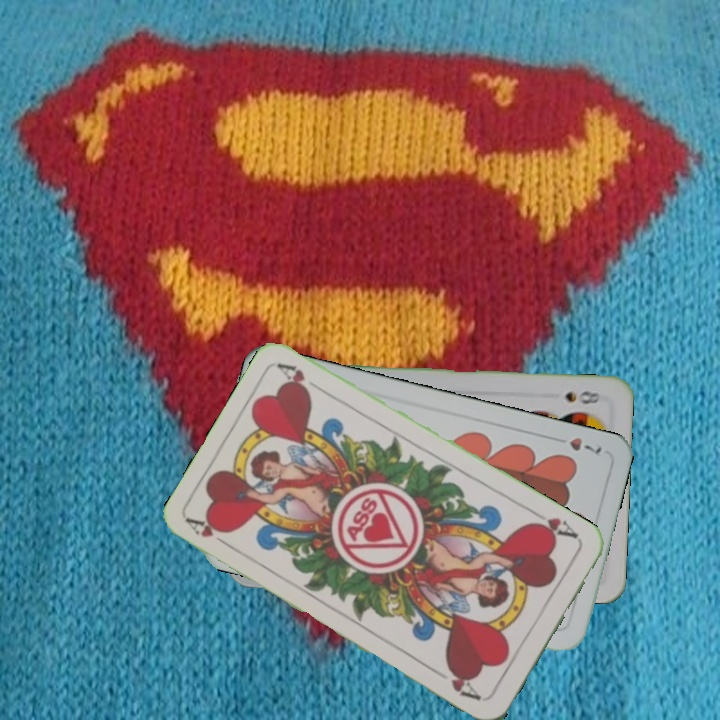H7: (549, 433, 605, 457)
HA: (183, 514, 237, 553), (525, 506, 581, 542)
S8: (560, 387, 603, 407)
